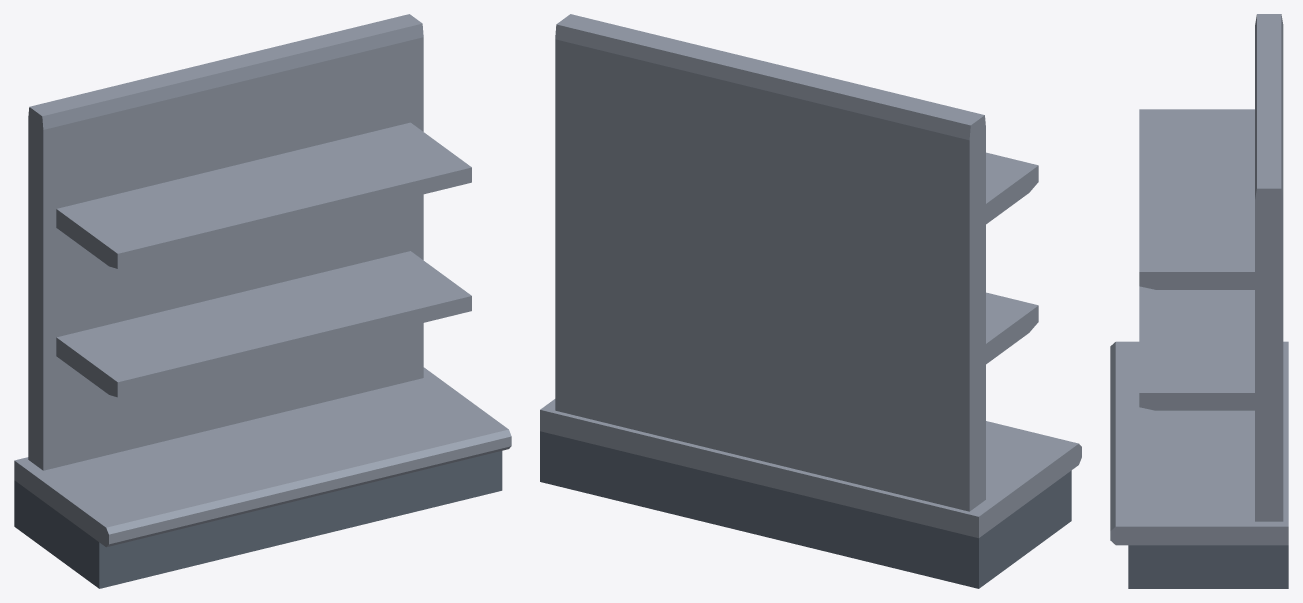
Rendered from ShopShelf_01.fbx.
3 renders of one model, left to right at view 1: azimuth 30°, elevation 25°; view 2: azimuth 150°, elevation 25°; view 3: azimuth 270°, elevation 25°, orthographic. The views are drawn at different scales.
Visible parts, largest first — view 1: Base, Shelf_1, Shelf_2; view 2: Base, Shelf_1, Shelf_2; view 3: Base, Shelf_2, Shelf_1.
Boxes of the visible parts, bbox=[...] form: Base: bbox=[14, 14, 511, 588]; Shelf_1: bbox=[56, 251, 471, 397]; Shelf_2: bbox=[56, 122, 471, 268]; Base: bbox=[540, 14, 1081, 588]; Shelf_1: bbox=[986, 292, 1038, 364]; Shelf_2: bbox=[986, 152, 1038, 224]; Base: bbox=[1110, 14, 1288, 588]; Shelf_2: bbox=[1139, 109, 1254, 289]; Shelf_1: bbox=[1139, 286, 1254, 410].
Size of the model in its own units: 169 by 168 by 68.72.
